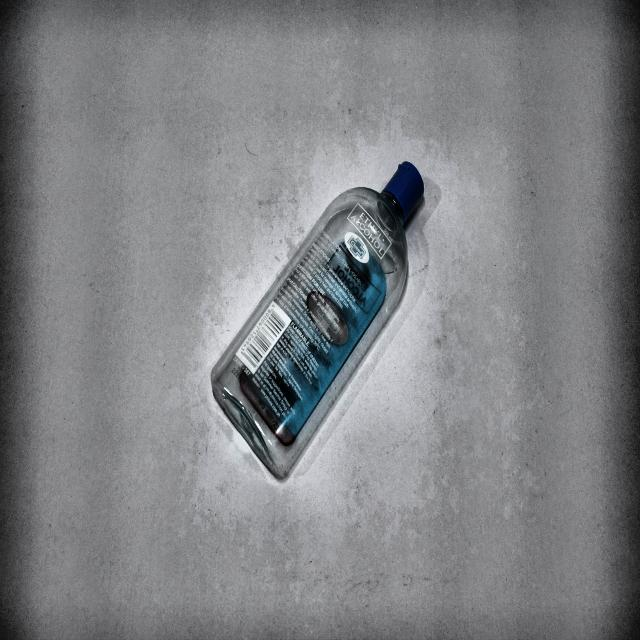Bottles: (207, 154, 435, 484)
